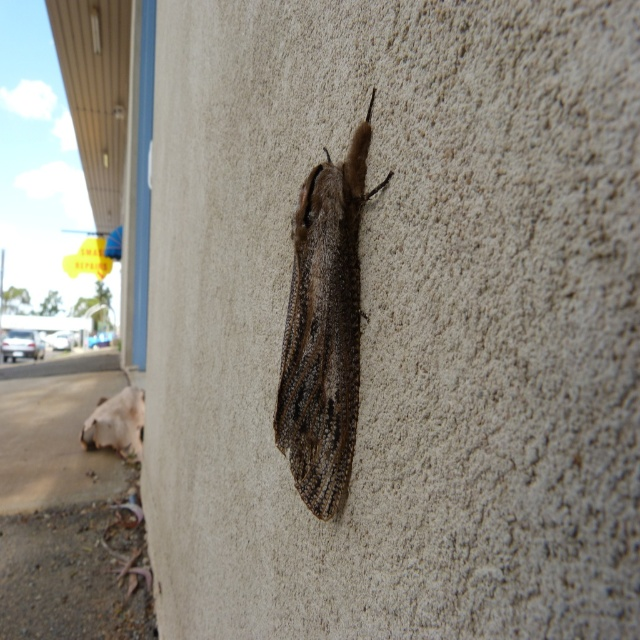Moths and butterflies: (270, 85, 395, 526)
